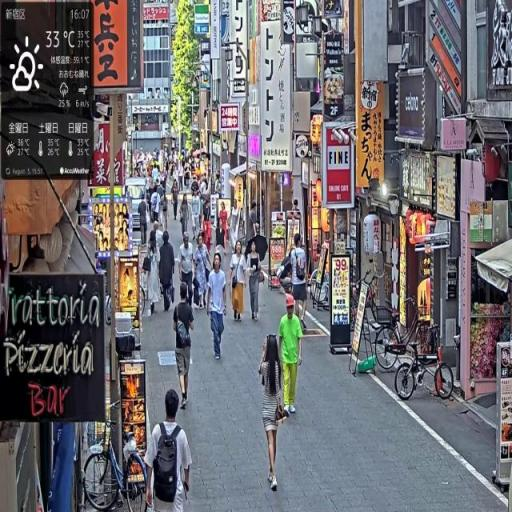person: (144, 389, 194, 512), (259, 336, 289, 492), (279, 295, 305, 420), (174, 283, 196, 409), (207, 255, 229, 365), (291, 232, 310, 335), (246, 241, 265, 324), (195, 232, 213, 314), (230, 239, 247, 325), (159, 232, 176, 315), (179, 234, 197, 308), (139, 197, 150, 248)
